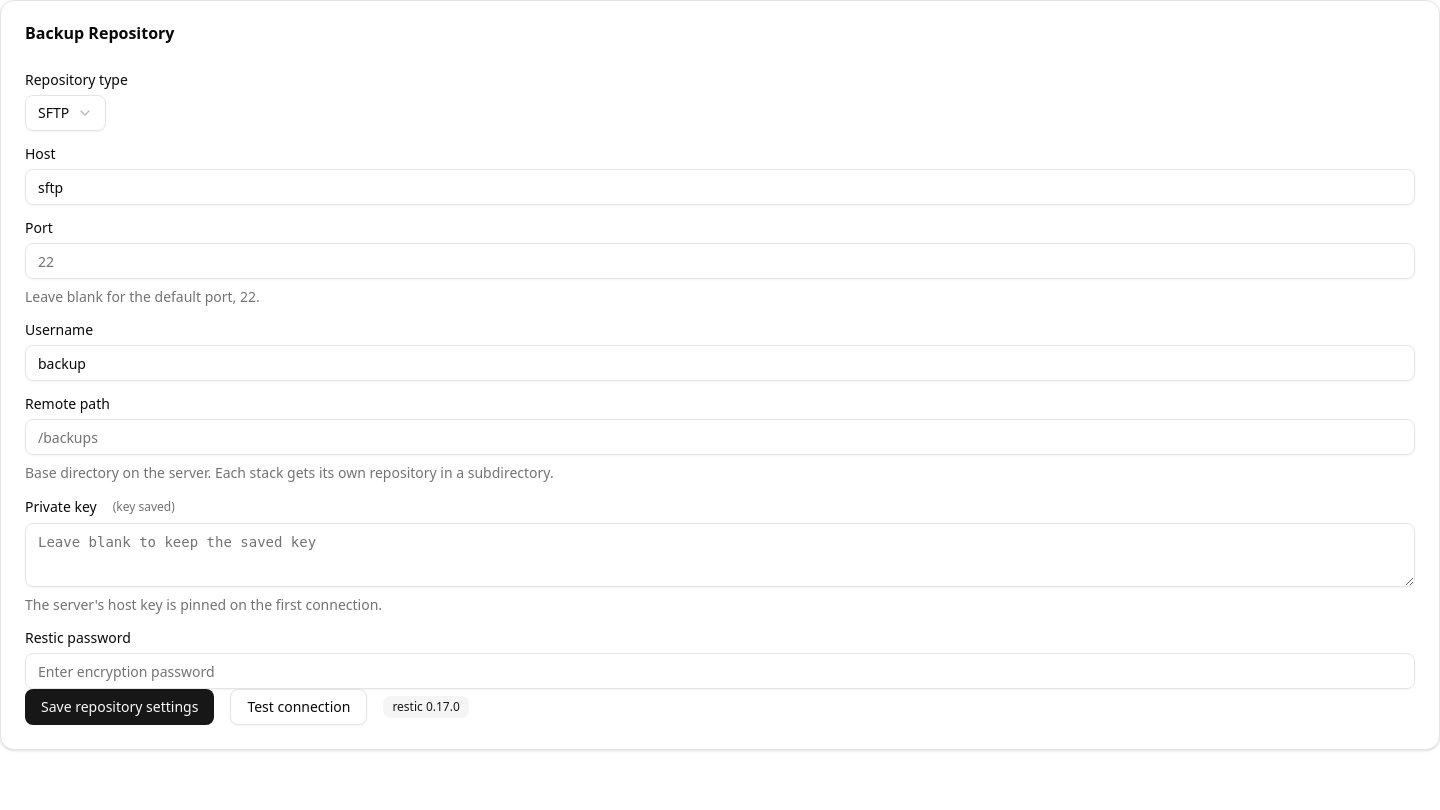
it: BackupRepositoryCard › test connection › shows a request failure as an error
This screenshot has width=1440, height=810.
What coordinates should you click on to do the following:
click the button "Test connection"
I would click on:
 (299, 707)
Its box is [230,689,367,725].
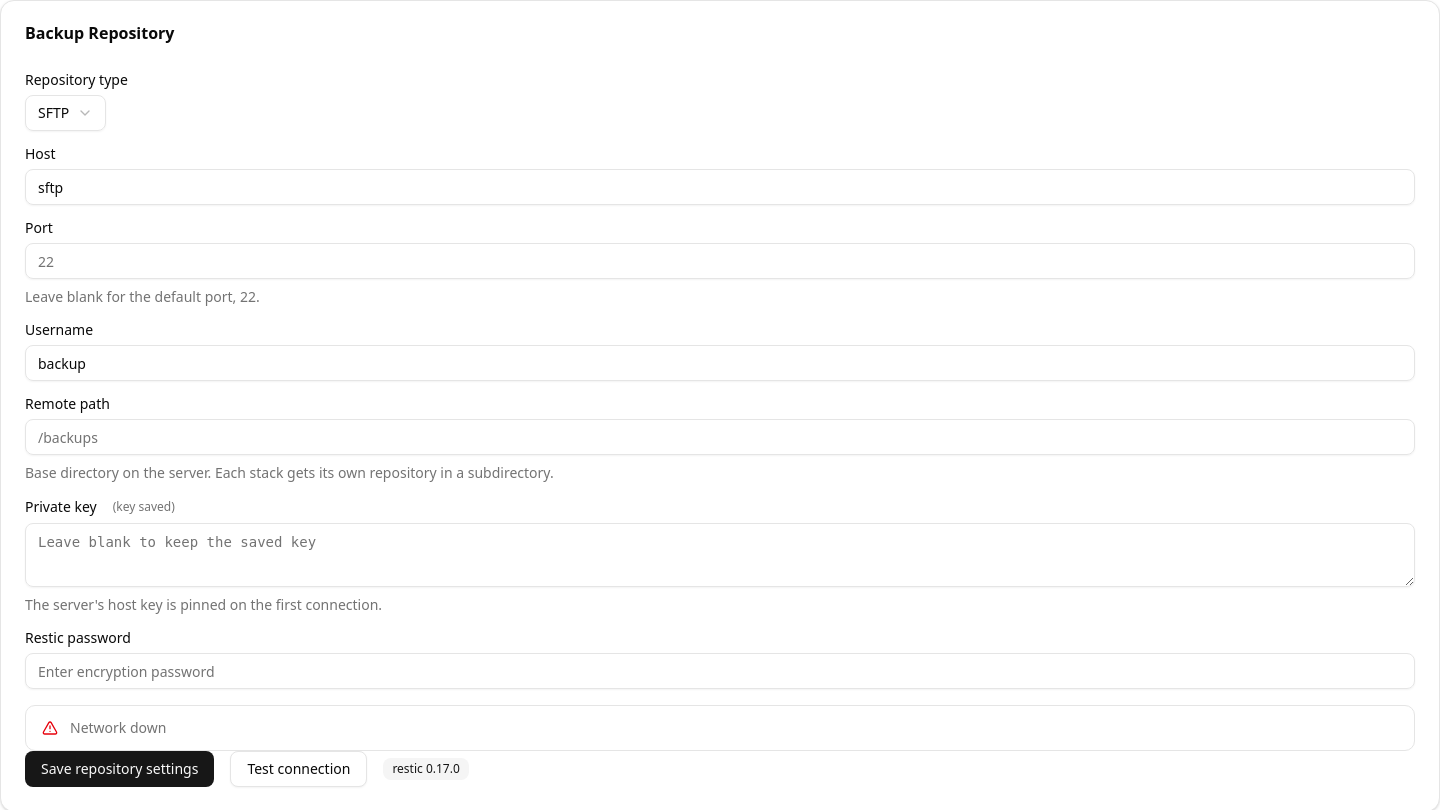
Expected: the text "Network down" is shown, [70,718,166,737]
